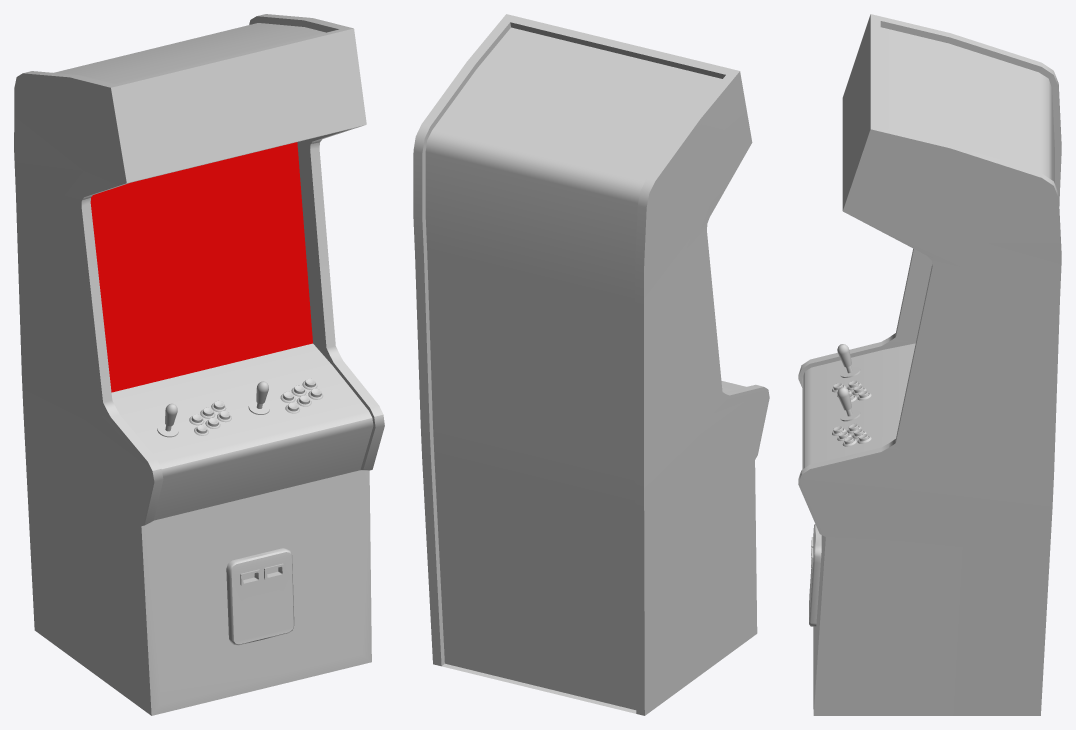
The model's file is Arcade.fbx.
3 views of the same model, side by side, from view 1: azimuth 30°, elevation 25°; view 2: azimuth 150°, elevation 25°; view 3: azimuth 270°, elevation 25° (orthographic). The views are drawn at different scales.
Parts seen in each view (by area): view 1: pCube2; view 2: pCube2; view 3: pCube2.
Boxes of the visible parts, <box> form: pCube2: <box>14,14,384,715</box>; pCube2: <box>413,14,769,715</box>; pCube2: <box>798,14,1061,715</box>.
Bounding box in the file's own units: 241 × 578 × 233.
